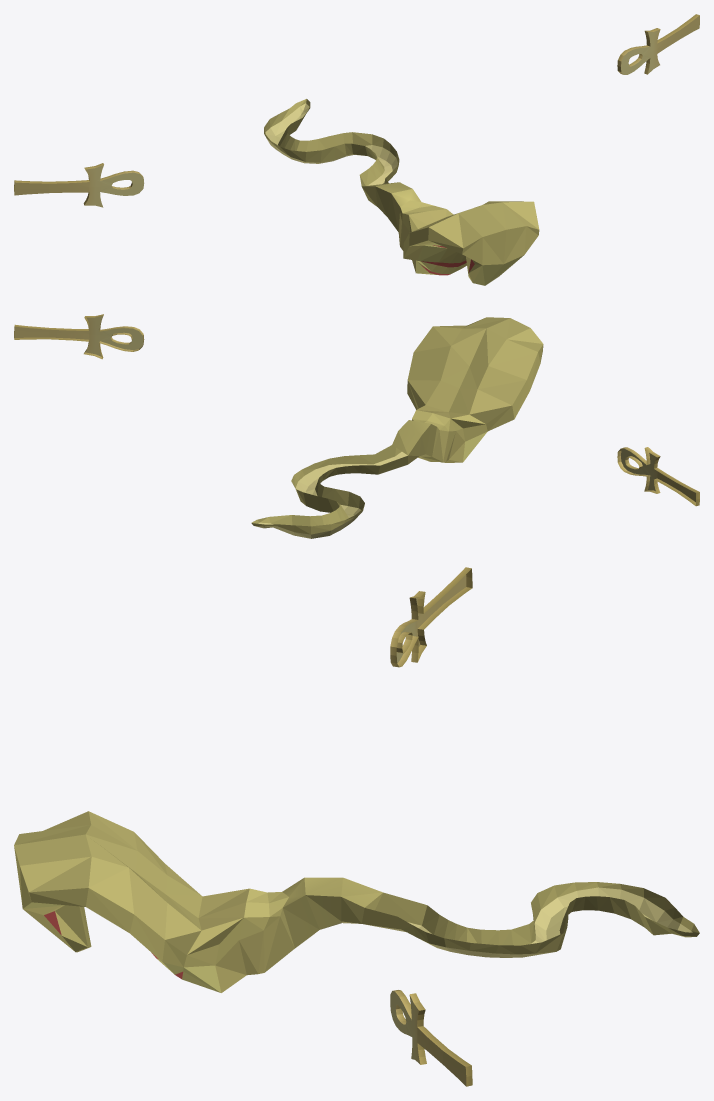
The model's file is repeatingCrossbowAncientEgyptianSimpleTip.glb.
3 views of the same model, one above another, from view 1: azimuth 30°, elevation 25°; view 2: azimuth 150°, elevation 25°; view 3: azimuth 270°, elevation 25° (orthographic). The views are drawn at different scales.
Visible parts, largest first — view 1: repeatingCrossbowAncientEgyptianSimpleTip; view 2: repeatingCrossbowAncientEgyptianSimpleTip; view 3: repeatingCrossbowAncientEgyptianSimpleTip.
Boxes of the visible parts, x1=… form: repeatingCrossbowAncientEgyptianSimpleTip: x1=14, y1=14, x2=699, y2=285; repeatingCrossbowAncientEgyptianSimpleTip: x1=14, y1=314, x2=699, y2=538; repeatingCrossbowAncientEgyptianSimpleTip: x1=14, y1=567, x2=699, y2=1086.
Bounding box in the file's own units: 0.5202 × 0.0926 × 0.3016.
